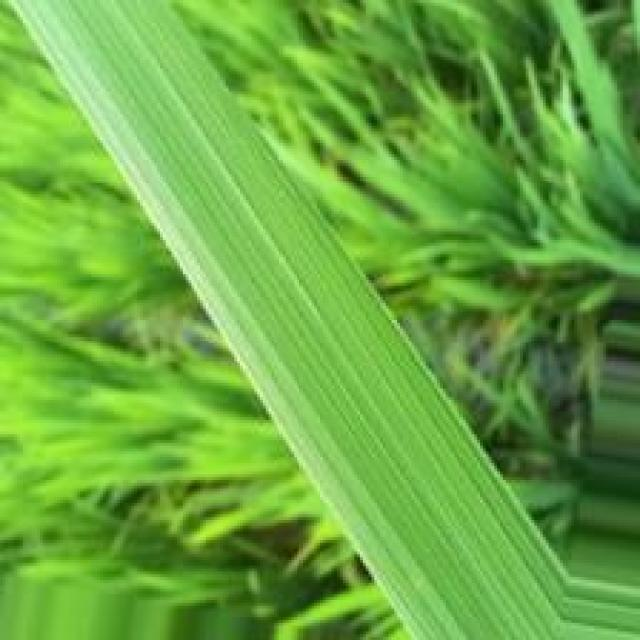HealthyLeaf: (35, 10, 572, 640)
